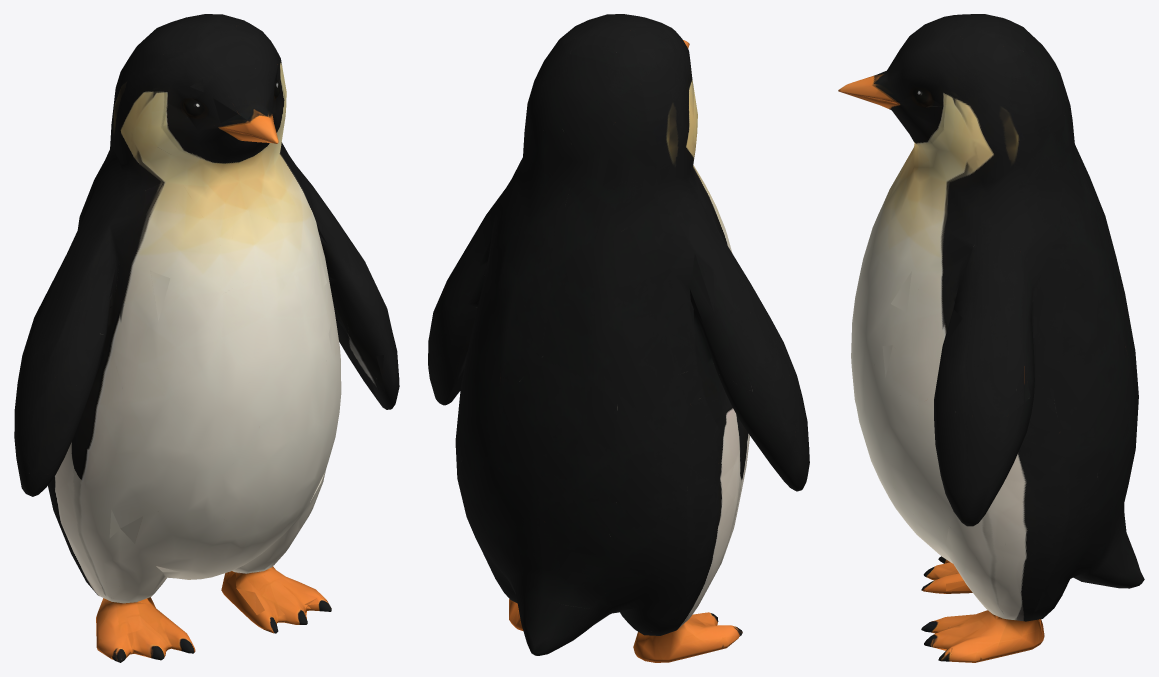
The model's file is penguin-beak.glb.
The picture shows the model from 3 angles, left to right: view 1: azimuth 30°, elevation 25°; view 2: azimuth 150°, elevation 25°; view 3: azimuth 270°, elevation 25°; orthographic projection. The views are drawn at different scales.
Visible parts, largest first — view 1: output_unwrapped; view 2: output_unwrapped; view 3: output_unwrapped.
Part boxes in pixels (x1,y1,x2,y2): output_unwrapped: (14, 14, 399, 662); output_unwrapped: (428, 14, 809, 662); output_unwrapped: (838, 14, 1144, 662).
Size of the model in its own units: 1.23 by 1.9 by 0.8937.
Materials: 1 (1 with a texture image).
